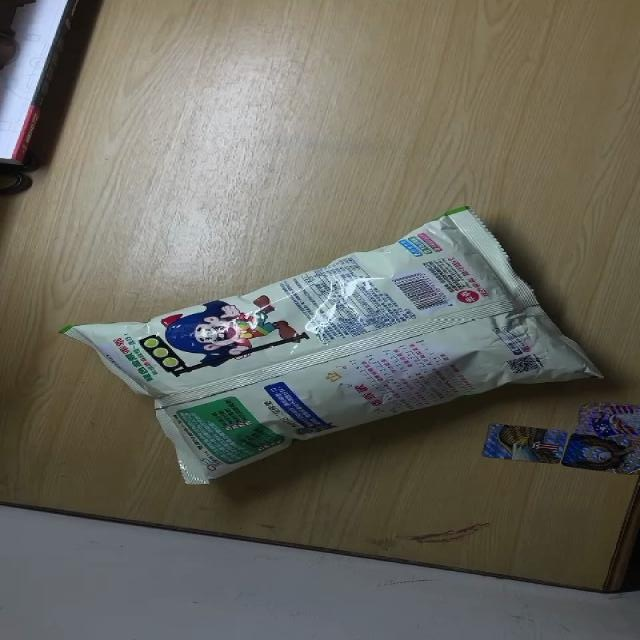Good-Luck: (61, 206, 608, 486)
